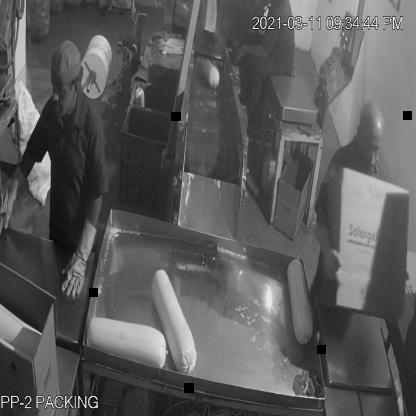glove: (59, 210, 99, 304), (0, 160, 33, 231)
no_glove: (231, 36, 272, 69)
